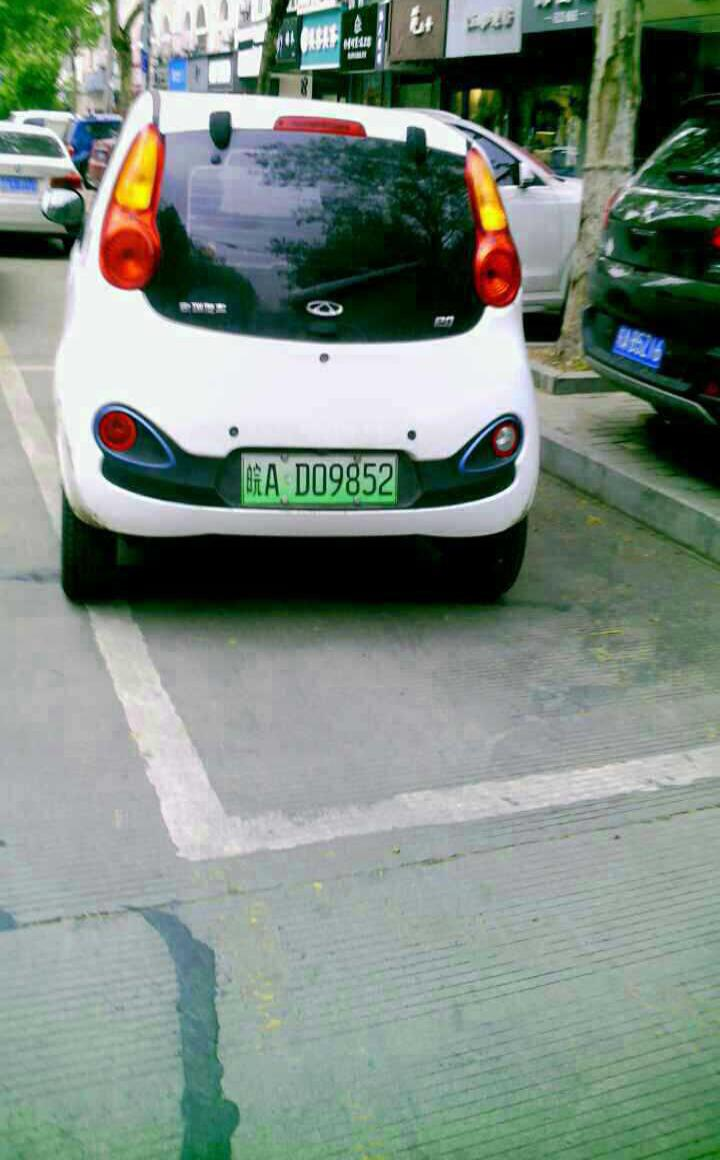car: (241, 450, 401, 501)
